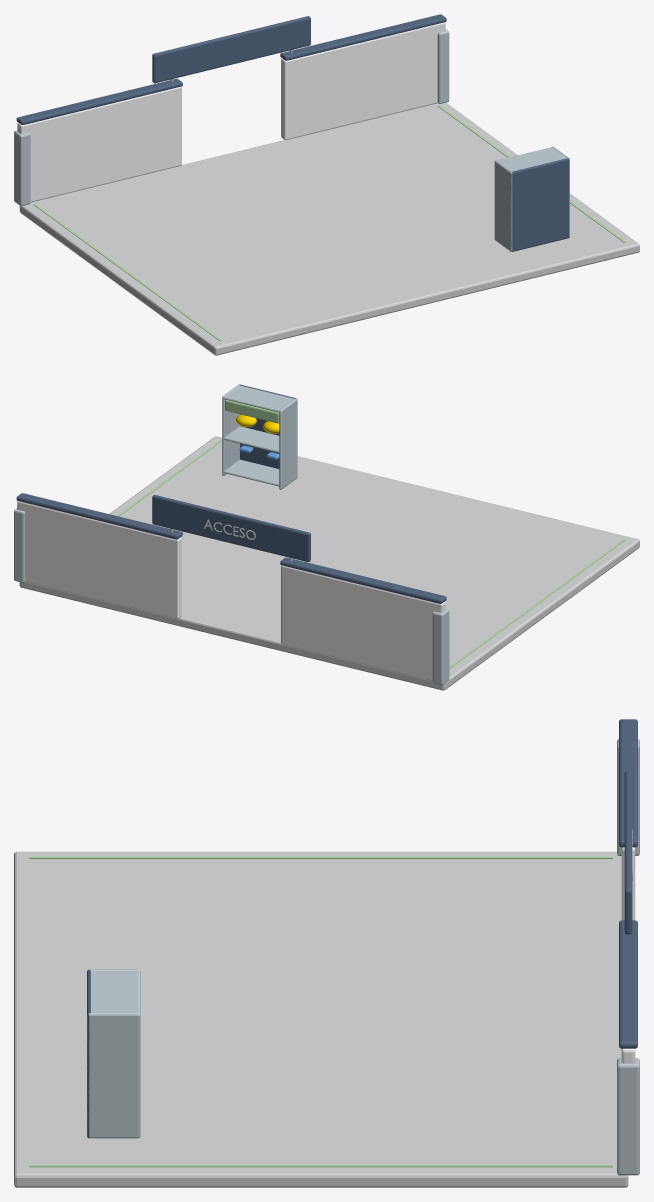
File: zone-entrance.glb
The picture shows the model from 3 angles, top to bottom: view 1: azimuth 30°, elevation 25°; view 2: azimuth 150°, elevation 25°; view 3: azimuth 270°, elevation 25°; orthographic projection. The views are drawn at different scales.
Visible parts, largest first — view 1: Floor, Back wall, Section plaque, Locker back, Locker side, Plaque support, Floor border; view 2: Floor, Back wall, Section plaque, Locker side, Plaque support, Floor border, Locker back, Locker header; view 3: Floor, Locker side, Section plaque, Floor border, Plaque support, Back wall.
Part boxes in pixels (<box>): Floor: <box>19,102,639,355</box>; Back wall: <box>17,22,445,202</box>; Section plaque: <box>16,14,446,124</box>; Locker back: <box>510,158,569,251</box>; Locker side: <box>494,146,569,251</box>; Plaque support: <box>14,29,449,206</box>; Floor border: <box>33,105,626,341</box>; Floor: <box>19,436,639,690</box>; Back wall: <box>17,501,445,681</box>; Section plaque: <box>16,493,446,603</box>; Locker side: <box>222,384,297,489</box>; Plaque support: <box>14,508,449,684</box>; Floor border: <box>117,440,626,668</box>; Locker back: <box>239,384,297,468</box>; Locker header: <box>225,400,279,423</box>; Floor: <box>14,851,628,1187</box>; Locker side: <box>87,969,140,1138</box>; Section plaque: <box>619,719,637,1048</box>; Floor border: <box>29,856,612,1167</box>; Plaque support: <box>617,739,639,1175</box>; Back wall: <box>621,829,635,1063</box>.
Bounding box in the file's own units: 10.09 × 2.82 × 8.15.
